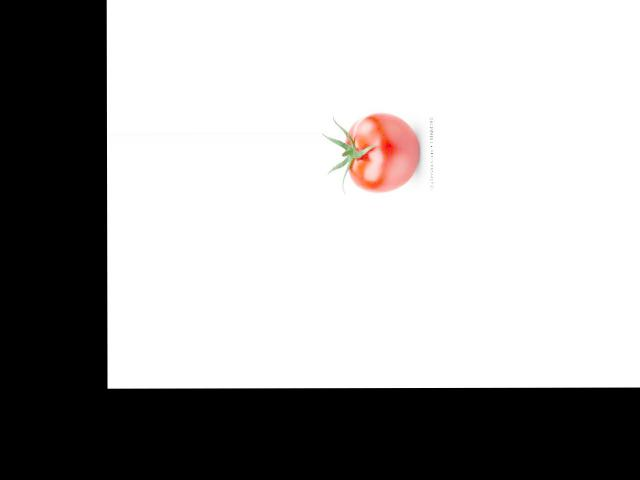tomato: (345, 112, 418, 192)
